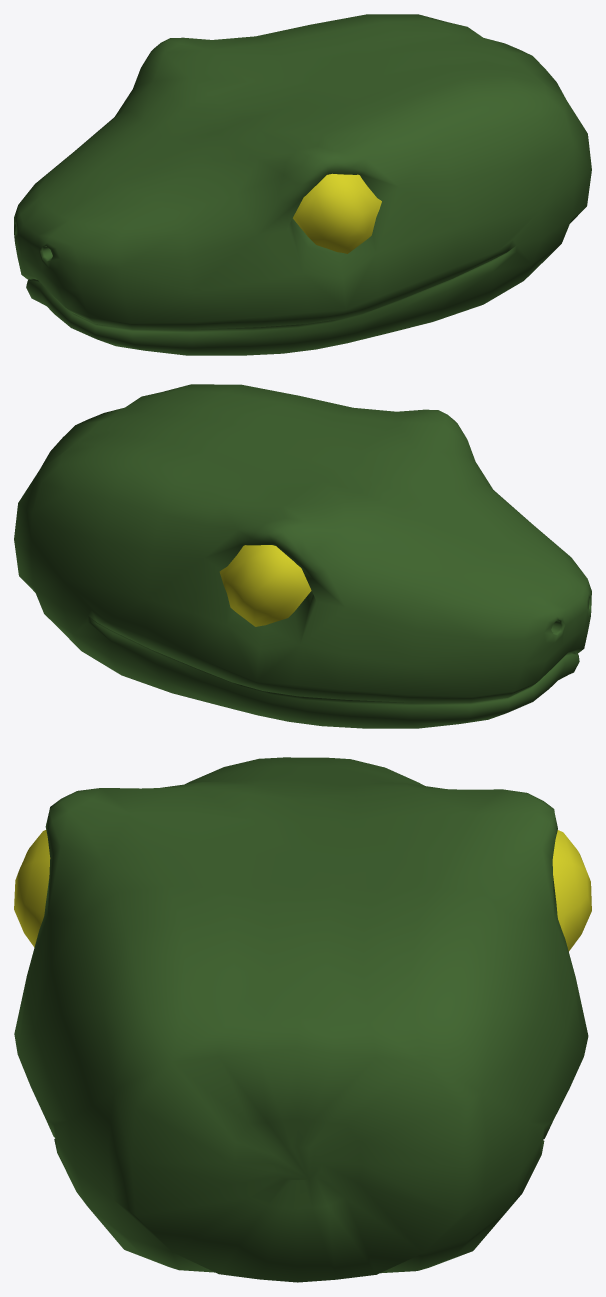
Rendered from SnakeHead.fbx.
The picture shows the model from 3 angles, top to bottom: view 1: azimuth 30°, elevation 25°; view 2: azimuth 150°, elevation 25°; view 3: azimuth 270°, elevation 25°; orthographic projection. The views are drawn at different scales.
Visible parts, largest first — view 1: Zmeia, Zmeia.001; view 2: Zmeia, Zmeia.001; view 3: Zmeia, Zmeia.001.
Part boxes in pixels (x1,y1,x2,y2): Zmeia: [14, 14, 591, 355]; Zmeia.001: [293, 173, 381, 253]; Zmeia: [14, 384, 591, 728]; Zmeia.001: [219, 545, 311, 626]; Zmeia: [14, 757, 588, 1282]; Zmeia.001: [14, 830, 591, 951].
Size of the model in its own units: 476 by 198 by 313.
